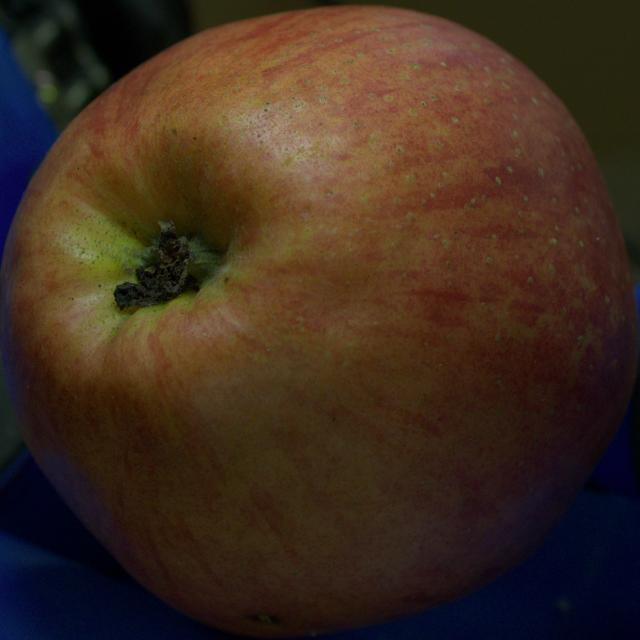apple: (0, 6, 638, 638)
pest: (250, 614, 279, 626)
